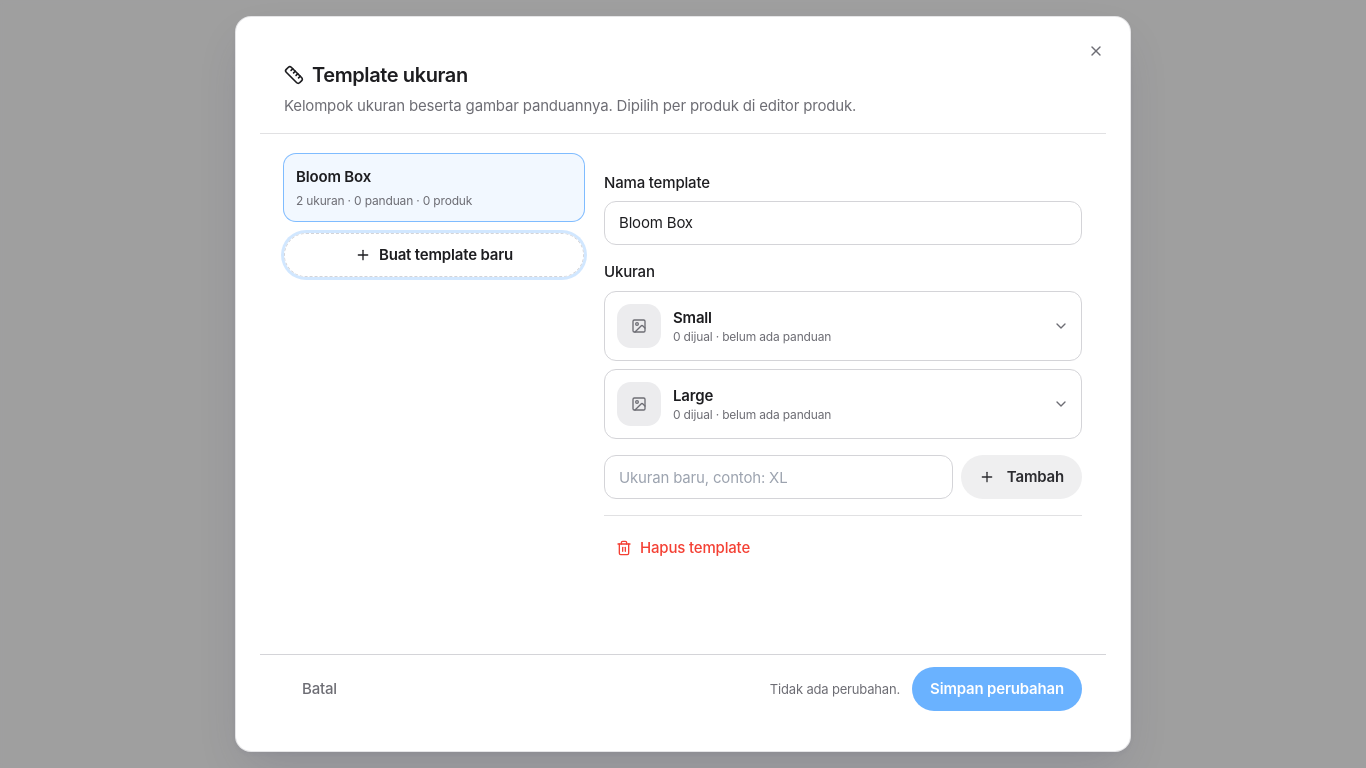
it: Template ukuran manager › creates a new template from the list and opens it
Step 1. Click the button "Buat template baru" → (434, 255), box left=284, top=233, right=584, bottom=277
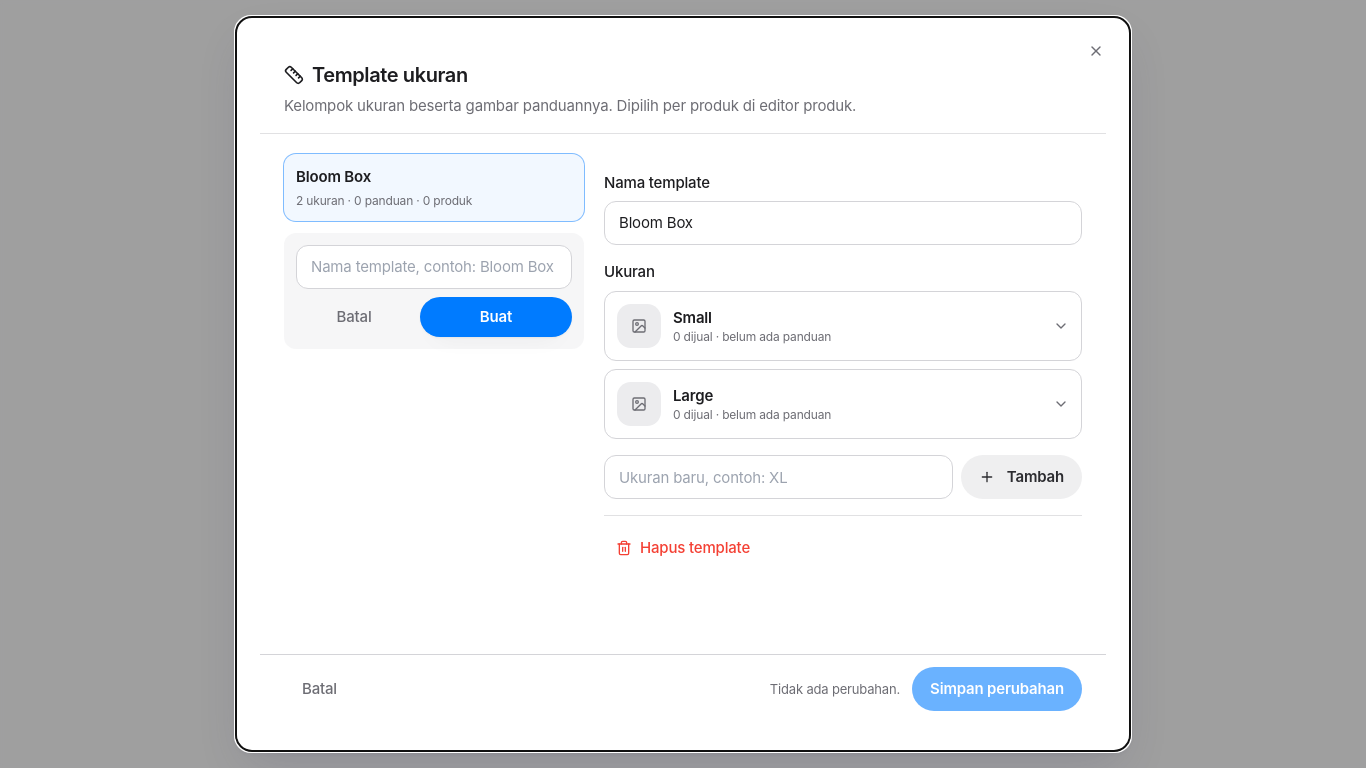
Step 2. Type "Vase" into the field named "Nama template baru" → (434, 267), box left=296, top=245, right=572, bottom=289
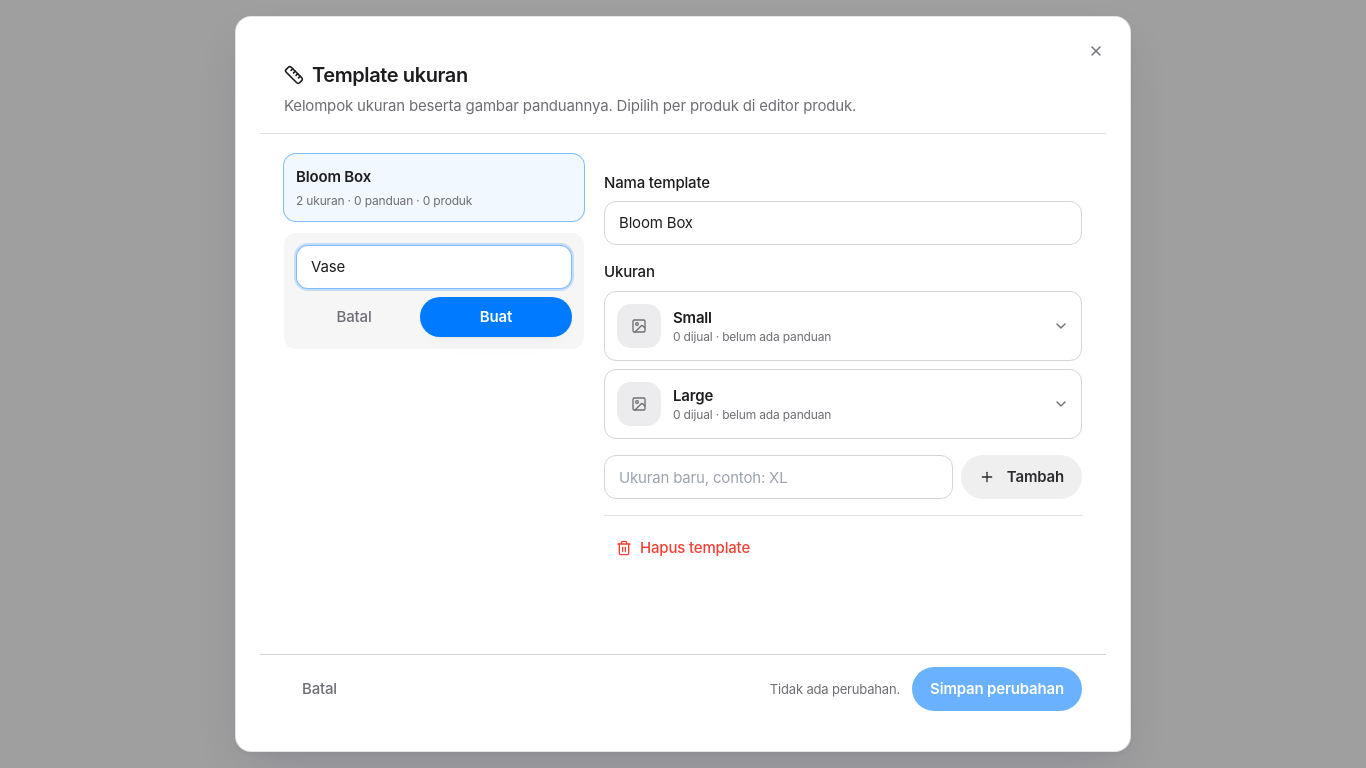
Step 3. Click the button "Buat" → (496, 317), box left=420, top=297, right=572, bottom=337
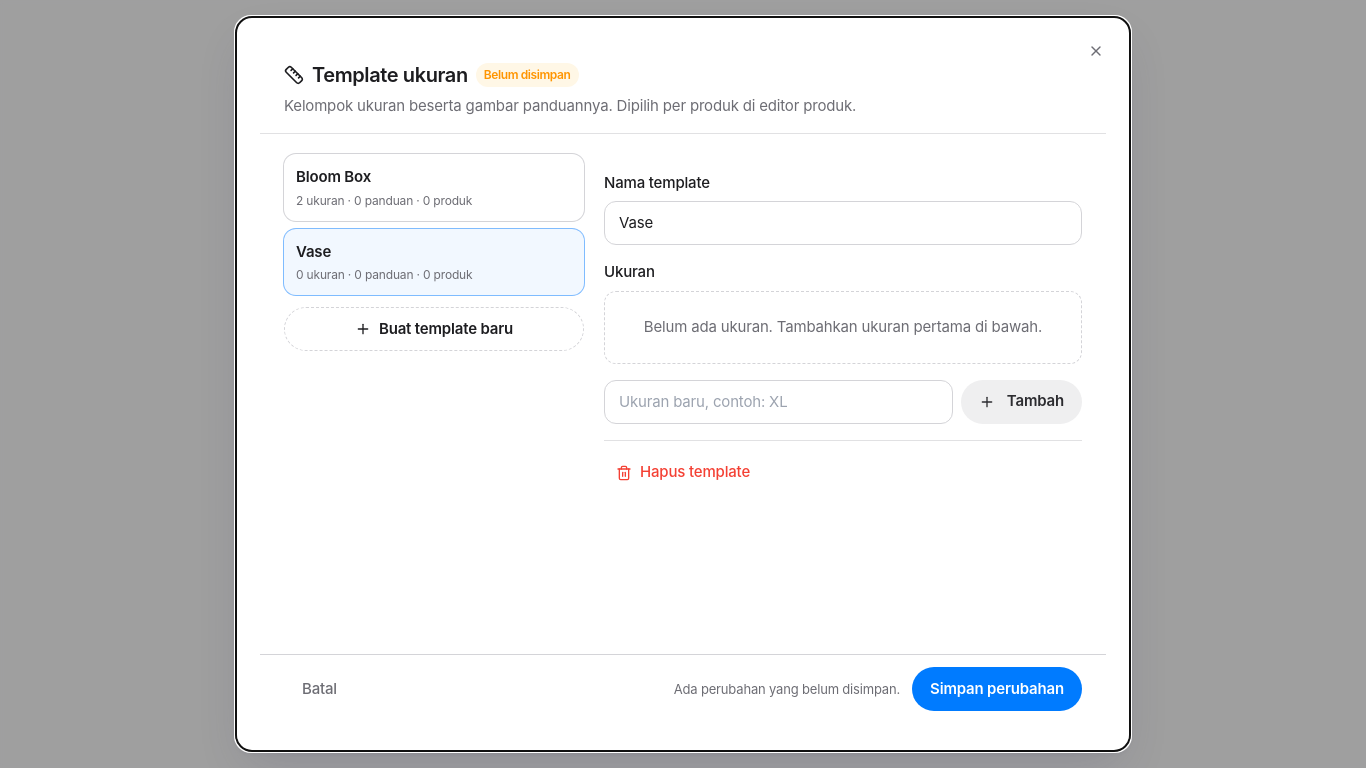
Now the field showing "Vase" is shown, box left=604, top=201, right=1082, bottom=245
Now the text "Belum ada ukuran. Tambahkan ukuran pertama di bawah." is shown, box left=604, top=291, right=1082, bottom=364
